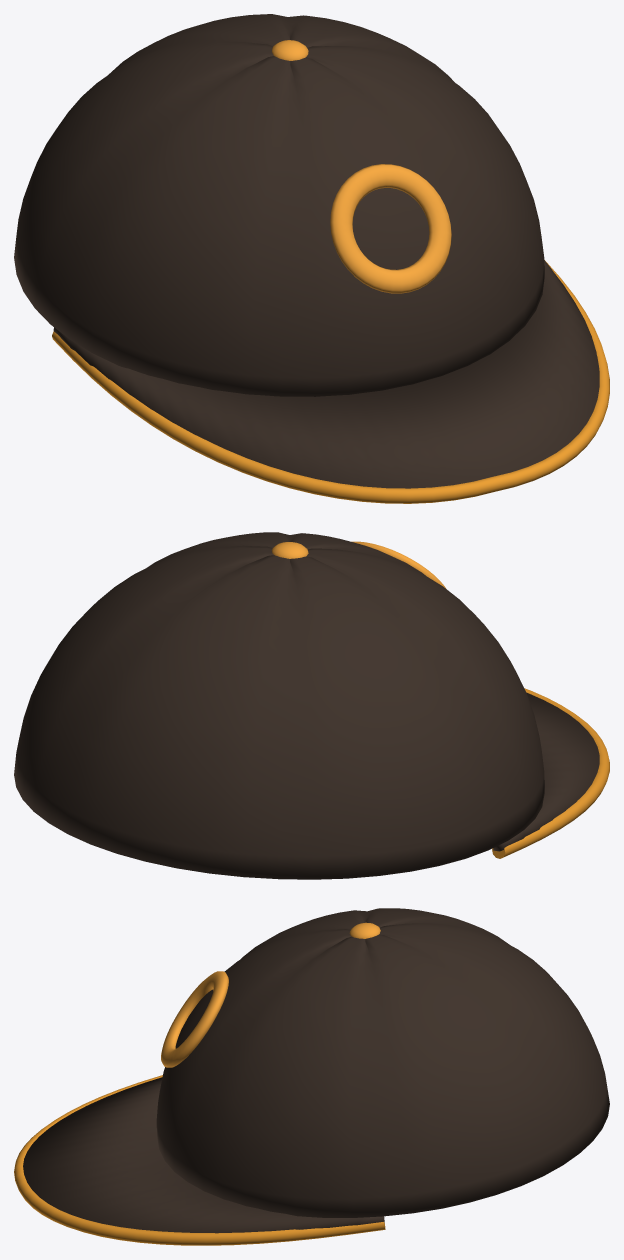
Rendered from gorra.glb.
The picture shows the model from 3 angles, top to bottom: view 1: azimuth 30°, elevation 25°; view 2: azimuth 150°, elevation 25°; view 3: azimuth 270°, elevation 25°; orthographic projection. The views are drawn at different scales.
Visible parts, largest first — view 1: accesorio_gorra; view 2: accesorio_gorra; view 3: accesorio_gorra.
Boxes of the visible parts, x1,y1,x2,y2 form: accesorio_gorra: (14, 14, 609, 503); accesorio_gorra: (14, 532, 609, 879); accesorio_gorra: (14, 908, 609, 1245).
Bounding box in the file's own units: 0.604 × 0.3774 × 0.8052.
